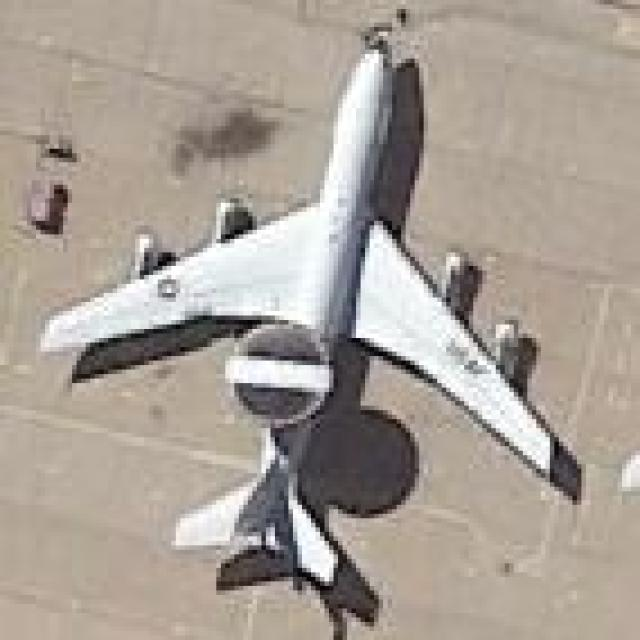E-3_TopDown: (36, 9, 586, 636)
